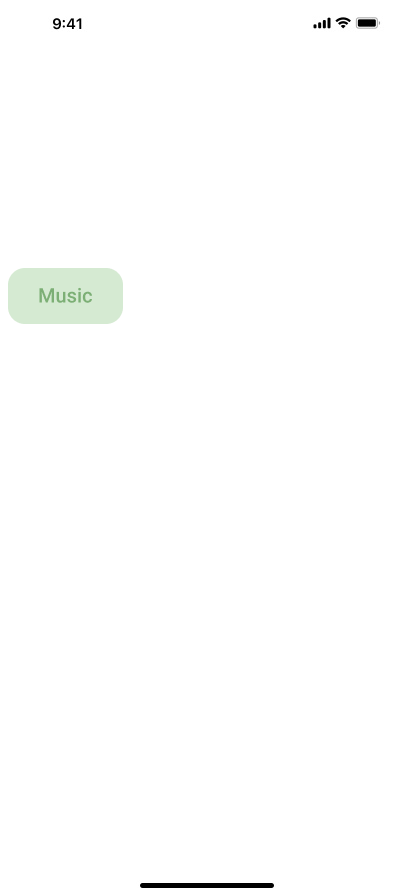Buttons: (8, 268, 131, 324)
Home Indicator: (0, 862, 414, 896)
Status Bar: (0, 0, 414, 44)
